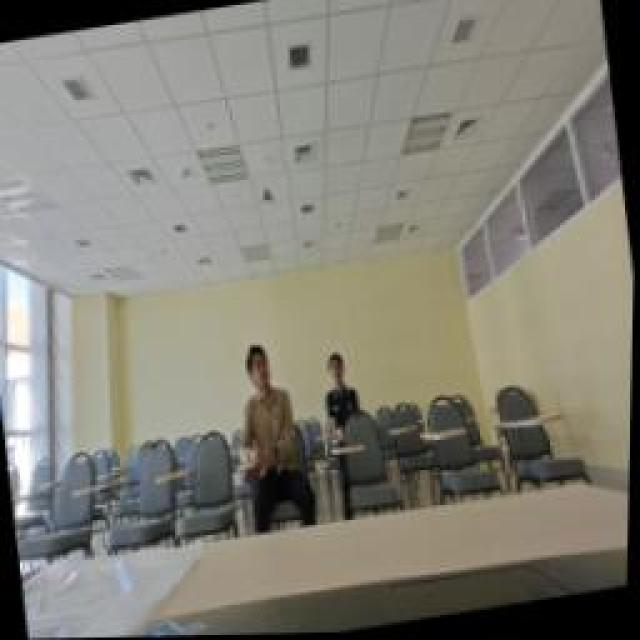study: (228, 338, 322, 540), (315, 348, 370, 450)
